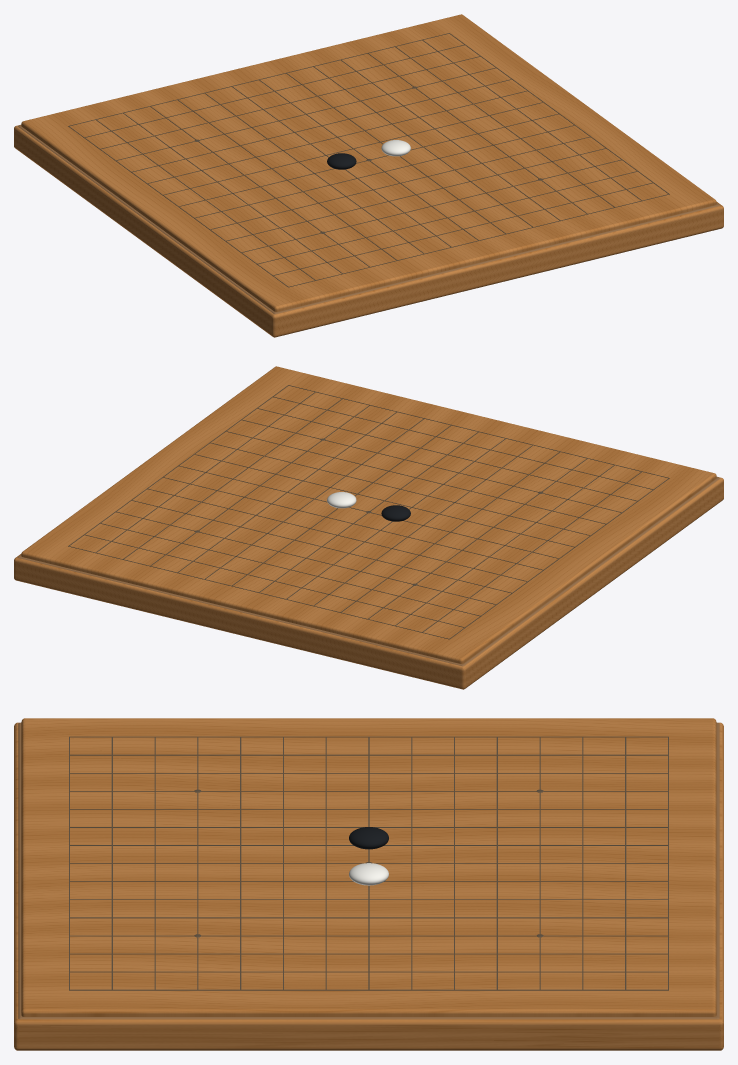
File: omok-kit.glb
3 renders of one model, top to bottom at view 1: azimuth 30°, elevation 25°; view 2: azimuth 150°, elevation 25°; view 3: azimuth 270°, elevation 25°, orthographic. The views are drawn at different scales.
Visible parts, largest first — view 1: BoardTop, BoardBase, BoardGrid, BoardRim; view 2: BoardTop, BoardBase, BoardGrid, BoardRim; view 3: BoardTop, BoardBase, BoardGrid, BoardRim, BlackStone, WhiteStone.
Boxes of the visible parts, x1,y1,x2,y2 form: BoardTop: (21,14,716,311); BoardBase: (14,124,723,337); BoardGrid: (68,33,669,287); BoardRim: (18,125,720,314); BoardTop: (21,366,716,663); BoardBase: (14,476,723,689); BoardGrid: (68,385,669,639); BoardRim: (17,477,719,666); BoardTop: (21,718,716,1016); BoardBase: (14,722,723,1050); BoardGrid: (69,736,668,990); BoardRim: (18,722,719,1019); BlackStone: (349,827,388,849); WhiteStone: (349,863,388,885).
Size of the model in its own units: 16.6 by 1.38 by 16.6.
Materials: 6 (2 with a texture image).
